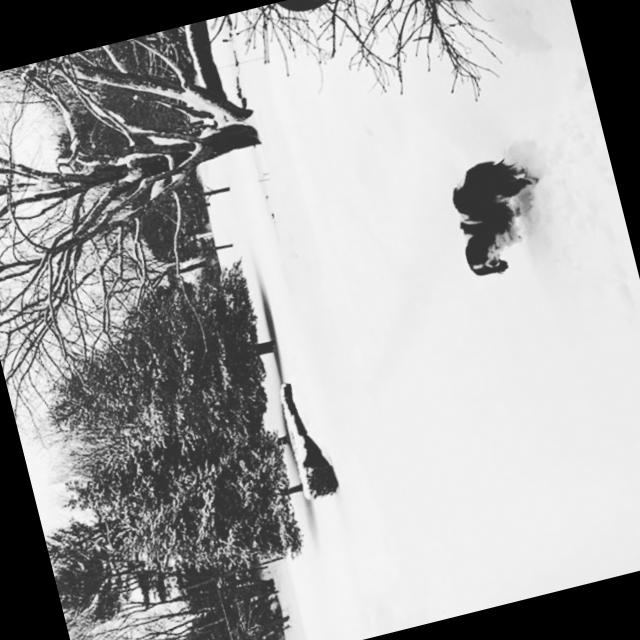squatting: (437, 140, 570, 286)
